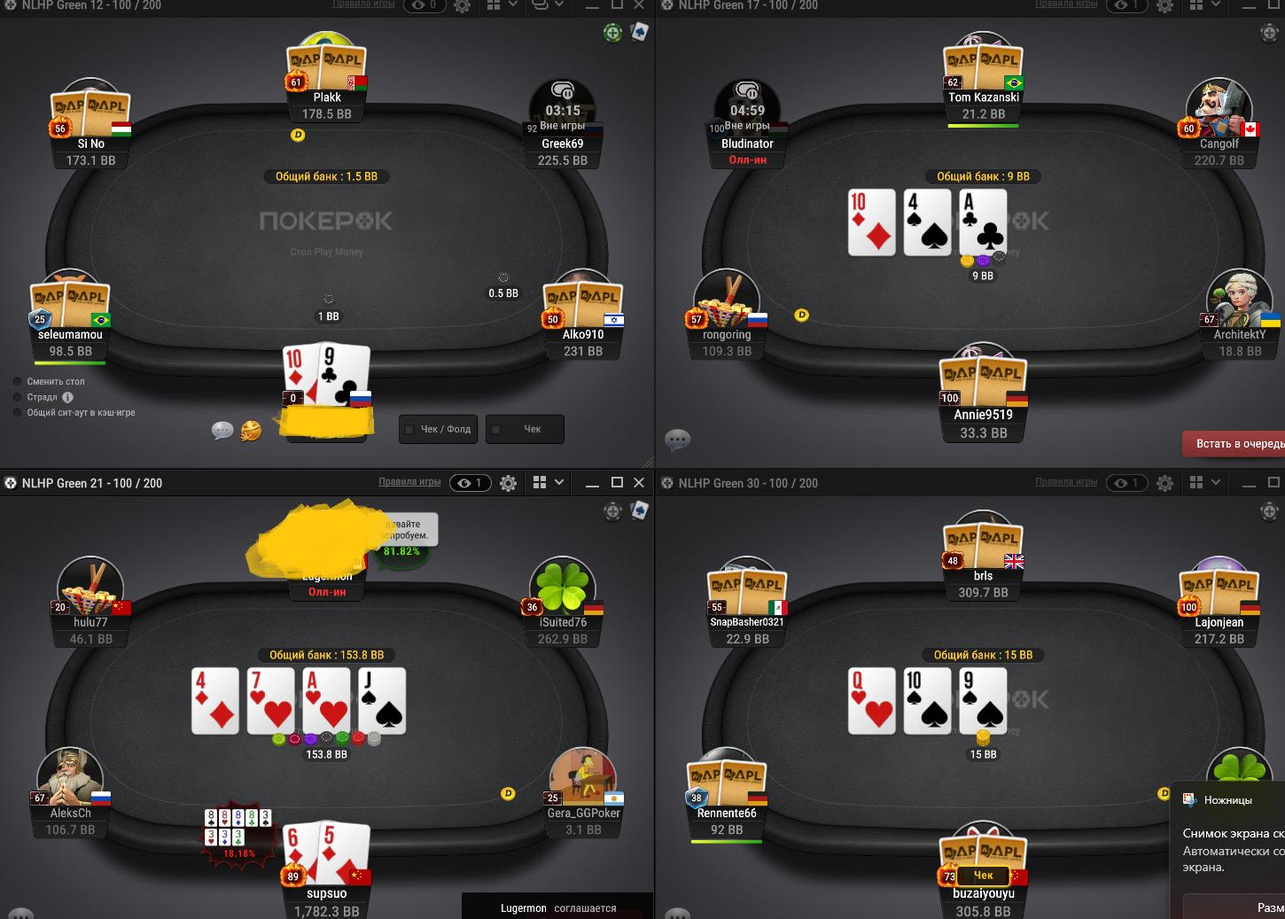10d: (848, 189, 894, 254), (281, 341, 320, 408)
10s: (903, 667, 954, 733)
4d: (192, 667, 239, 734)
4s: (903, 190, 953, 255)
5d: (318, 817, 372, 890)
6d: (285, 823, 322, 885)
7h: (246, 668, 295, 733)
9c: (318, 341, 371, 404)
9s: (962, 668, 1006, 731)
Ac: (961, 188, 1008, 256)
Ah: (303, 668, 351, 732)
Js: (359, 667, 407, 734)
Qh: (849, 667, 897, 732)
